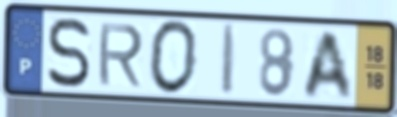8: (257, 26, 297, 99)
A: (300, 29, 356, 102)
I: (219, 22, 240, 99)
O: (147, 18, 200, 98)
R: (95, 21, 146, 89)
S: (45, 15, 93, 91)
